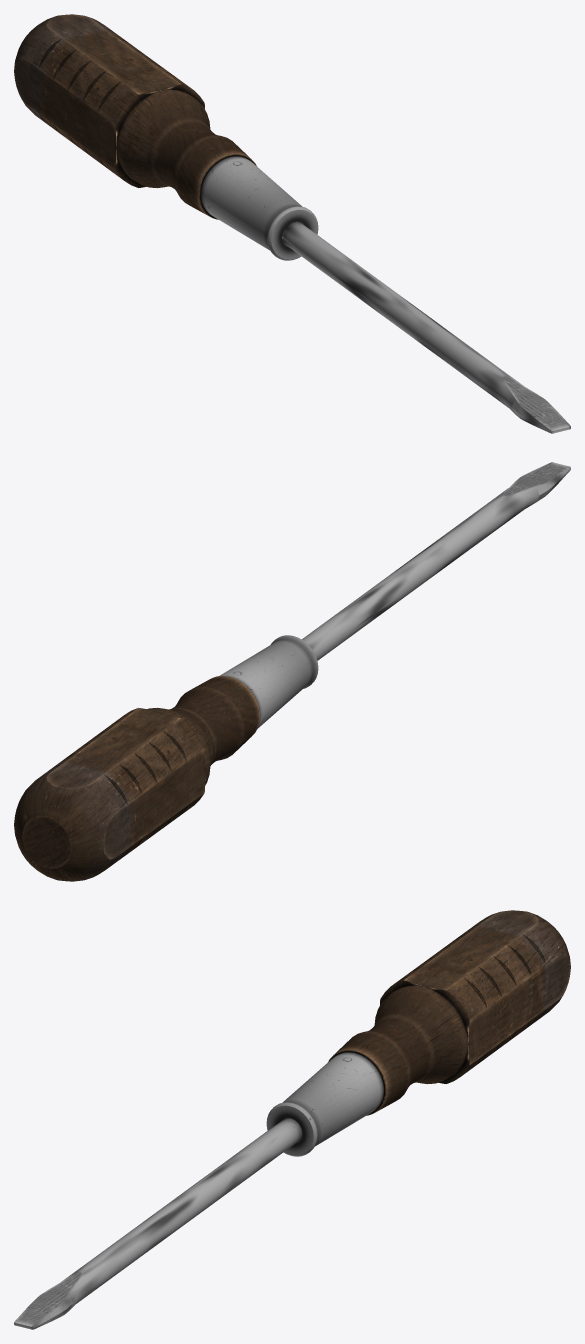
The model's file is screwdriver.glb.
The picture shows the model from 3 angles, top to bottom: view 1: azimuth 30°, elevation 25°; view 2: azimuth 150°, elevation 25°; view 3: azimuth 330°, elevation 25°; orthographic projection.
Visible parts, largest first — view 1: screwdriver_2; view 2: screwdriver_2; view 3: screwdriver_2.
Part boxes in pixels (box(x1,y1,x2,y2)): screwdriver_2: box(14, 14, 570, 433); screwdriver_2: box(14, 462, 570, 881); screwdriver_2: box(14, 910, 570, 1329).
Size of the model in its own units: 0.0271 by 0.0271 by 0.2699.
1 material, 1 textured.
